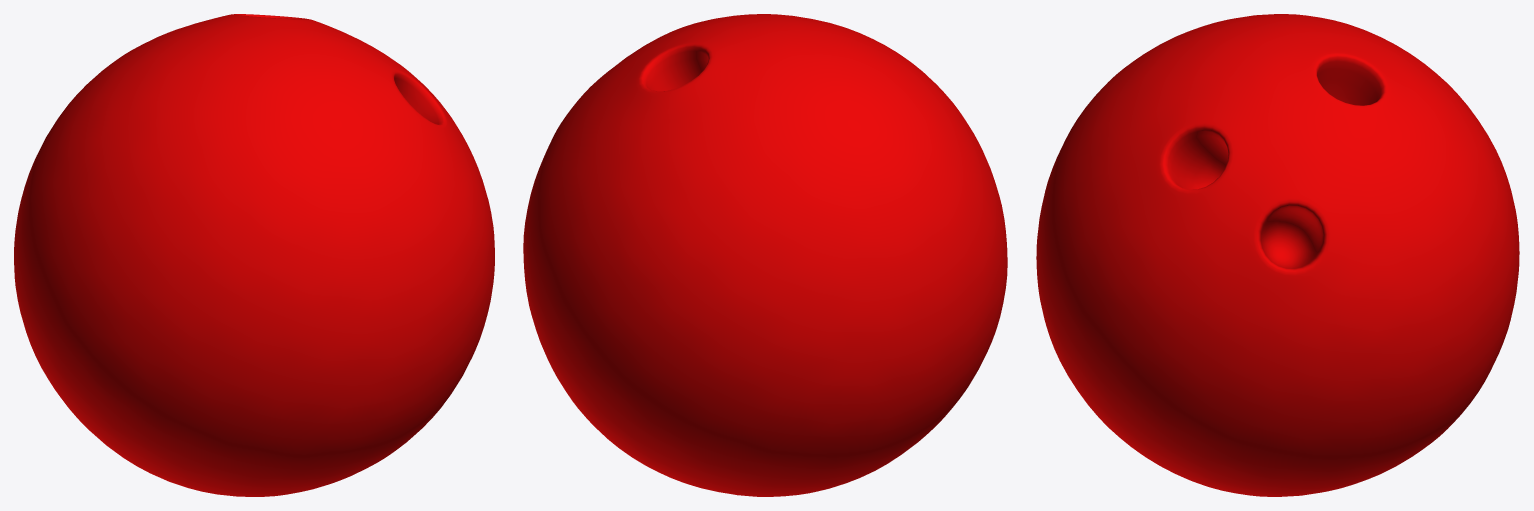
The model's file is Bowling.glb.
3 views of the same model, side by side, from view 1: azimuth 30°, elevation 25°; view 2: azimuth 150°, elevation 25°; view 3: azimuth 270°, elevation 25° (orthographic).
Visible parts, largest first — view 1: Icosphere.008; view 2: Icosphere.008; view 3: Icosphere.008.
Part boxes in pixels (x1,y1,x2,y2): Icosphere.008: (14, 14, 494, 496); Icosphere.008: (523, 14, 1007, 496); Icosphere.008: (1036, 14, 1519, 496).
Bounding box in the file's own units: 0.522 × 0.5233 × 0.5226.
